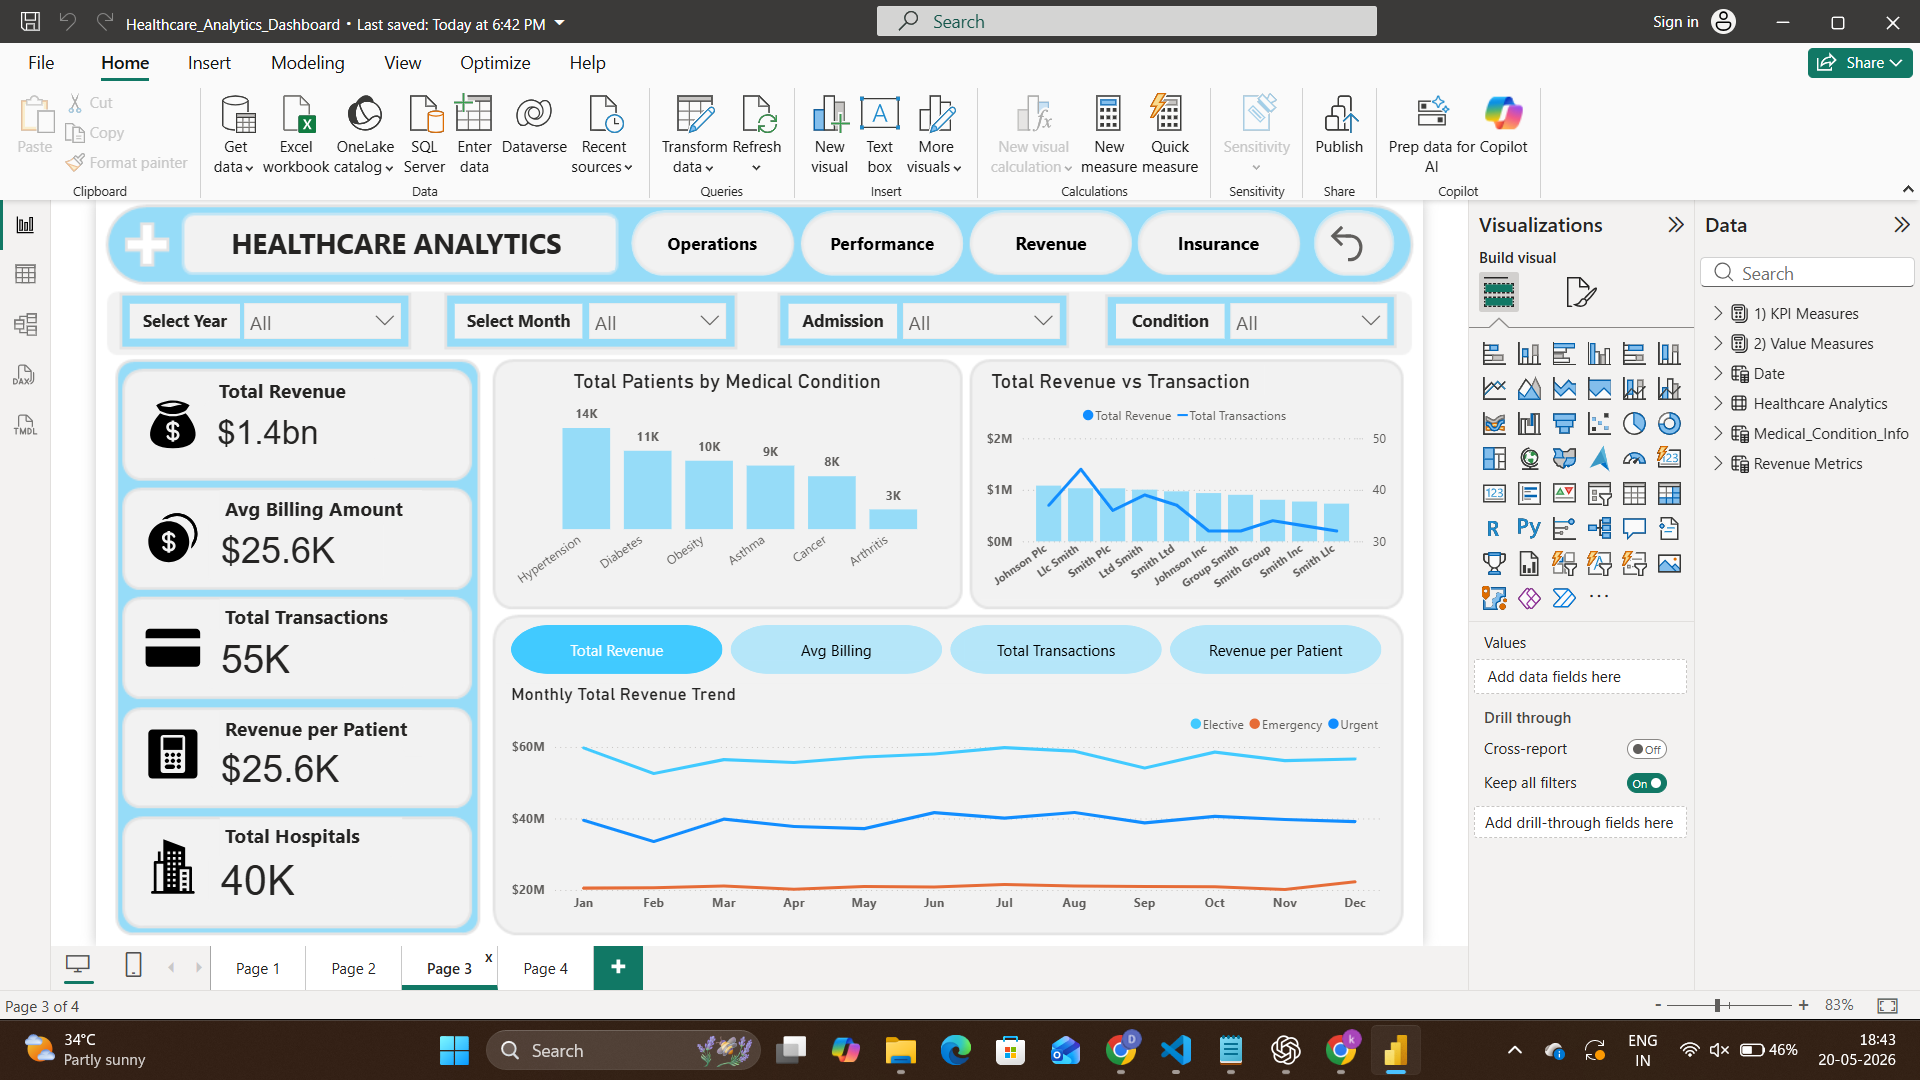

This screenshot's page, from the dashboard's own definition file:
{"tool":"powerbi","page":{"name":"Page 3","canvas":[1280,720],"ordinal":2},"visuals":[{"type":"cardVisual","fields":{"Data":["1) KPI Measures.Total Revenue"]},"box":[88.4,176.8,198.6,93.3],"z":0},{"type":"textbox","box":[113.9,165.9,176.8,44.8],"z":1000},{"type":"image","box":[38.8,185.3,71.5,61.8],"z":2000},{"type":"textbox","box":[119.4,279.9,195.4,45.8],"z":3000},{"type":"textbox","box":[119.4,384.9,177.3,44.6],"z":4000},{"type":"textbox","box":[119.4,492.2,195.4,44.6],"z":5000},{"type":"textbox","box":[119.4,596,176.1,44.6],"z":6000},{"type":"image","box":[38.6,294.3,71.4,62.9],"z":7000},{"type":"image","box":[38.6,400,71.4,62.9],"z":8000},{"type":"image","box":[38.6,502.9,71.4,62.9],"z":9000},{"type":"image","box":[38.6,611.4,71.4,62.9],"z":10000},{"type":"cardVisual","fields":{"Data":["1) KPI Measures.Total Hospitals"]},"box":[91.7,616.5,213.5,79.6],"z":11000},{"type":"cardVisual","fields":{"Data":["1) KPI Measures.Total Transactions"]},"box":[91.7,396.9,223.2,92.9],"z":12000},{"type":"cardVisual","fields":{"Data":["1) KPI Measures.Revenue per Patient"]},"box":[91.7,512.7,223.2,71.2],"z":13000},{"type":"cardVisual","fields":{"Data":["1) DAX Measures.Avg Billing"]},"box":[91.7,292,203.9,92.9],"z":14000},{"type":"card","fields":{"Values":["2) Value Measures.Total Revenue KPI"]},"box":[219.6,205.1,162.9,37.4],"z":15000},{"type":"card","fields":{"Values":["2) Value Measures.Total Transactions KPI"]},"box":[213.5,429.5,164.1,37.4],"z":16000},{"type":"card","fields":{"Values":["2) Value Measures.Revenue per Patient KPI"]},"box":[214.7,530.8,164.1,37.4],"z":17000},{"type":"card","fields":{"Values":["2) Value Measures.Hospitals KPI"]},"box":[213.5,637,164.1,37.4],"z":18000},{"type":"card","fields":{"Values":["2) Value Measures.Avg Billing KPI"]},"box":[232.8,322.1,125.5,37.4],"z":19000},{"type":"slicer","fields":{"Values":["Healthcare Analytics.Admission Type"]},"box":[768.5,89.3,171.3,49.5],"z":20000},{"type":"textbox","box":[668.4,100.1,105,33.8],"z":21000},{"type":"textbox","box":[32.6,100.1,106.2,33.8],"z":22000},{"type":"slicer","fields":{"Values":["Date.Year"]},"box":[132.7,89.3,171.3,49.5],"z":23000},{"type":"textbox","box":[858.7,158.7,268.9,46],"z":24000},{"type":"actionButton","box":[680.4,9.7,156.8,63.9],"z":25000},{"type":"actionButton","box":[843.3,9.7,156.8,62.7],"z":26000},{"type":"actionButton","box":[1005,9.7,156.8,62.7],"z":27000},{"type":"actionButton","box":[516.4,9.7,156.8,63.9],"z":28000},{"type":"actionButton","box":[1175.1,9.7,78.4,63.9],"z":29000},{"type":"textbox","box":[984.5,100.1,105,33.8],"z":30000},{"type":"slicer","fields":{"Values":["Medical_Condition_Info.Medical Condition"]},"box":[1084.6,89.3,171.3,49.5],"z":31000},{"type":"group","id":"g1","title":"Top and Bottom","box":[405.2,417.4,836.3,281.1],"z":32000},{"type":"textbox","box":[346.2,100.1,123.1,33.8],"z":33000},{"type":"slicer","fields":{"Values":["Date.Month name"]},"box":[465.7,89.3,152,49.5],"z":34000},{"type":"lineClusteredColumnComboChart","fields":{"Category":["Healthcare Analytics.Hospital"],"Y":["1) KPI Measures.Total Revenue"],"Y2":["1) KPI Measures.Total Transactions"]},"box":[853.9,187.7,397.3,197.4],"z":35000},{"type":"textbox","box":[125.5,18.1,375.2,49.5],"z":36000},{"type":"advancedSlicerVisual","fields":{"Values":["Revenue Metrics.Revenue Metrics"]},"box":[395.7,405.4,850.5,57.9],"z":37000},{"type":"lineChart","fields":{"Y":["1) KPI Measures.Total Revenue"],"Category":["Date.Month name"],"Series":["Healthcare Analytics.Admission Type"]},"box":[395.7,466.9,851.7,229.2],"z":38000},{"type":"clusteredColumnChart","fields":{"Category":["Healthcare Analytics.Medical Condition"],"Y":["1) KPI Measures.Total Patients"]},"box":[395.7,164.1,427.1,220.8],"z":39000}]}

Visuals, with their boxes on the page's 1280x720 design canvas (x1, y1, x2, y2). These are canvas units, not pixel positions in the 1920x1080 screenshot, which may show the page scaled, cropped or inside an application window:
cardVisual - 1) KPI Measures.Total Revenue: <box>88,177,287,270</box>
textbox: <box>114,166,291,211</box>
image: <box>39,185,110,247</box>
textbox: <box>119,280,315,326</box>
textbox: <box>119,385,297,430</box>
textbox: <box>119,492,315,537</box>
textbox: <box>119,596,296,641</box>
image: <box>39,294,110,357</box>
image: <box>39,400,110,463</box>
image: <box>39,503,110,566</box>
image: <box>39,611,110,674</box>
cardVisual - 1) KPI Measures.Total Hospitals: <box>92,616,305,696</box>
cardVisual - 1) KPI Measures.Total Transactions: <box>92,397,315,490</box>
cardVisual - 1) KPI Measures.Revenue per Patient: <box>92,513,315,584</box>
cardVisual - 1) DAX Measures.Avg Billing: <box>92,292,296,385</box>
card - 2) Value Measures.Total Revenue KPI: <box>220,205,382,242</box>
card - 2) Value Measures.Total Transactions KPI: <box>214,430,378,467</box>
card - 2) Value Measures.Revenue per Patient KPI: <box>215,531,379,568</box>
card - 2) Value Measures.Hospitals KPI: <box>214,637,378,674</box>
card - 2) Value Measures.Avg Billing KPI: <box>233,322,358,360</box>
slicer - Healthcare Analytics.Admission Type: <box>768,89,940,139</box>
textbox: <box>668,100,773,134</box>
textbox: <box>33,100,139,134</box>
slicer - Date.Year: <box>133,89,304,139</box>
textbox: <box>859,159,1128,205</box>
actionButton: <box>680,10,837,74</box>
actionButton: <box>843,10,1000,72</box>
actionButton: <box>1005,10,1162,72</box>
actionButton: <box>516,10,673,74</box>
actionButton: <box>1175,10,1254,74</box>
textbox: <box>984,100,1090,134</box>
slicer - Medical_Condition_Info.Medical Condition: <box>1085,89,1256,139</box>
"Top and Bottom" group: <box>405,417,1242,698</box>
textbox: <box>346,100,469,134</box>
slicer - Date.Month name: <box>466,89,618,139</box>
lineClusteredColumnComboChart - Healthcare Analytics.Hospital x 1) KPI Measures.Total Revenue: <box>854,188,1251,385</box>
textbox: <box>126,18,501,68</box>
advancedSlicerVisual - Revenue Metrics.Revenue Metrics: <box>396,405,1246,463</box>
lineChart - 1) KPI Measures.Total Revenue x Date.Month name: <box>396,467,1247,696</box>
clusteredColumnChart - Healthcare Analytics.Medical Condition x 1) KPI Measures.Total Patients: <box>396,164,823,385</box>
